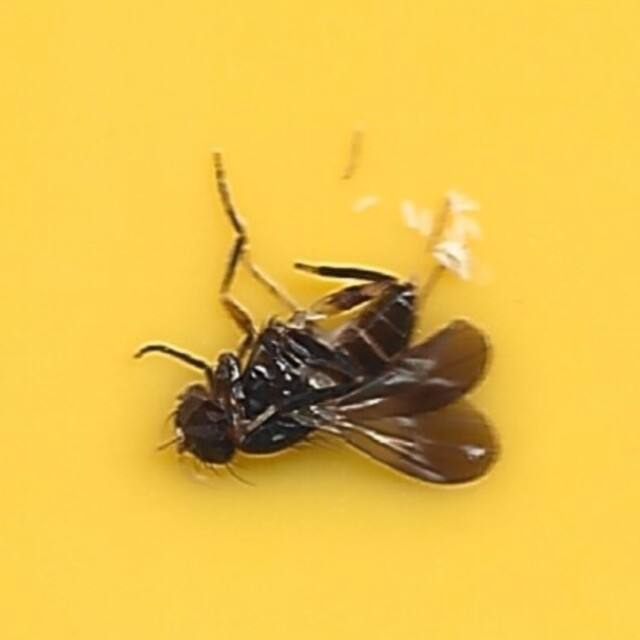Brachycera: (133, 147, 507, 493)
